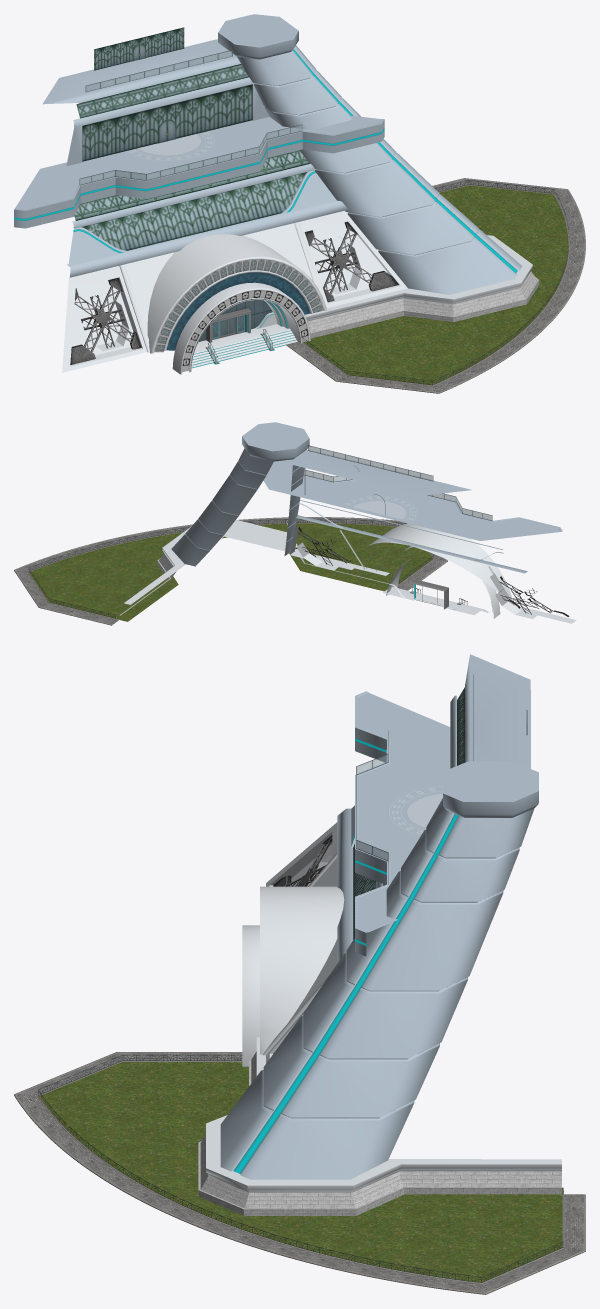
Rendered from t1_b_prism_bottom.glb.
3 views of the same model, one above another, from view 1: azimuth 30°, elevation 25°; view 2: azimuth 150°, elevation 25°; view 3: azimuth 270°, elevation 25° (orthographic). The views are drawn at different scales.
Parts seen in each view (by area): view 1: t1_b_prism_bottom_body1, t1_b_prism_bottom_body2, t1_b_prism_base; view 2: t1_b_prism_bottom_body1, t1_b_prism_base, t1_b_prism_bottom_body2; view 3: t1_b_prism_bottom_body1, t1_b_prism_base, t1_b_prism_bottom_body2.
Part boxes in pixels (x1,y1,x2,y2): t1_b_prism_bottom_body1: [14, 14, 532, 374]; t1_b_prism_bottom_body2: [70, 27, 569, 385]; t1_b_prism_base: [286, 178, 585, 393]; t1_b_prism_bottom_body1: [124, 422, 576, 623]; t1_b_prism_base: [14, 517, 447, 625]; t1_b_prism_bottom_body2: [29, 445, 569, 618]; t1_b_prism_bottom_body1: [206, 654, 561, 1192]; t1_b_prism_base: [14, 1051, 585, 1294]; t1_b_prism_bottom_body2: [38, 674, 563, 1282].
Size of the model in its own units: 86.85 by 33.56 by 53.74.
10 materials, 8 textured.
